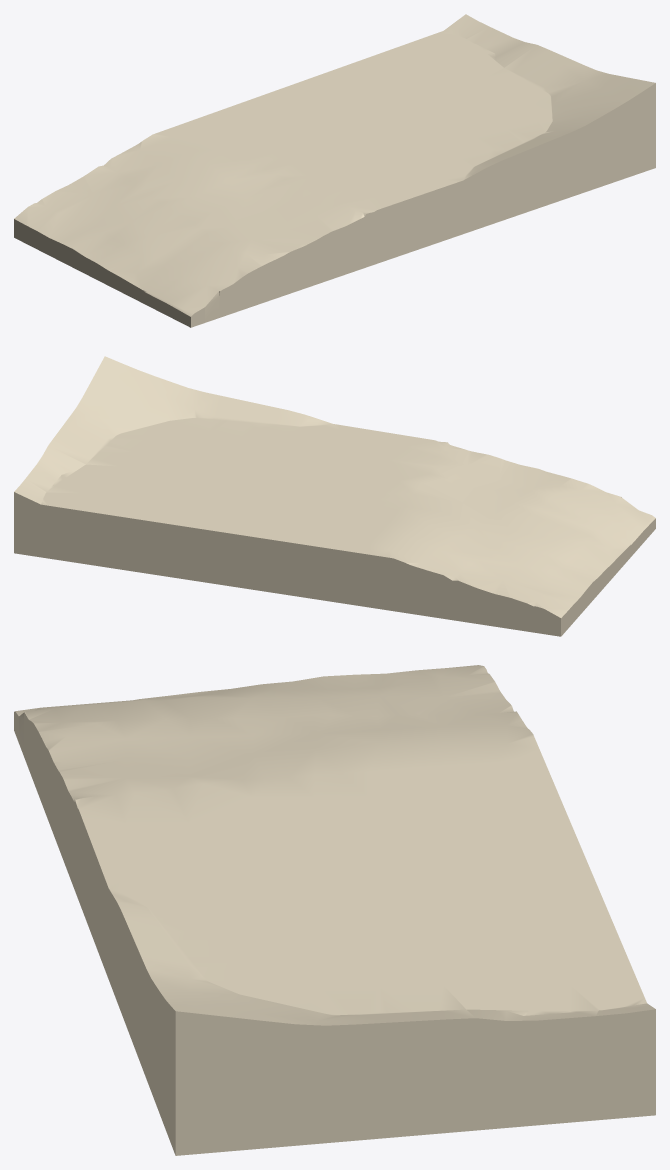
The picture shows the model from 3 angles, top to bottom: view 1: azimuth 30°, elevation 25°; view 2: azimuth 150°, elevation 25°; view 3: azimuth 270°, elevation 25°; orthographic projection. The views are drawn at different scales.
Visible parts, largest first — view 1: FD-L10-GND-FINISHED-CANDIDATE; view 2: FD-L10-GND-FINISHED-CANDIDATE; view 3: FD-L10-GND-FINISHED-CANDIDATE.
Boxes of the visible parts, box(x1,y1,x2,y2) form: FD-L10-GND-FINISHED-CANDIDATE: box(14, 14, 655, 327); FD-L10-GND-FINISHED-CANDIDATE: box(14, 356, 655, 636); FD-L10-GND-FINISHED-CANDIDATE: box(14, 665, 655, 1155).
Size of the model in its own units: 42.75 by 6.29 by 25.28.
